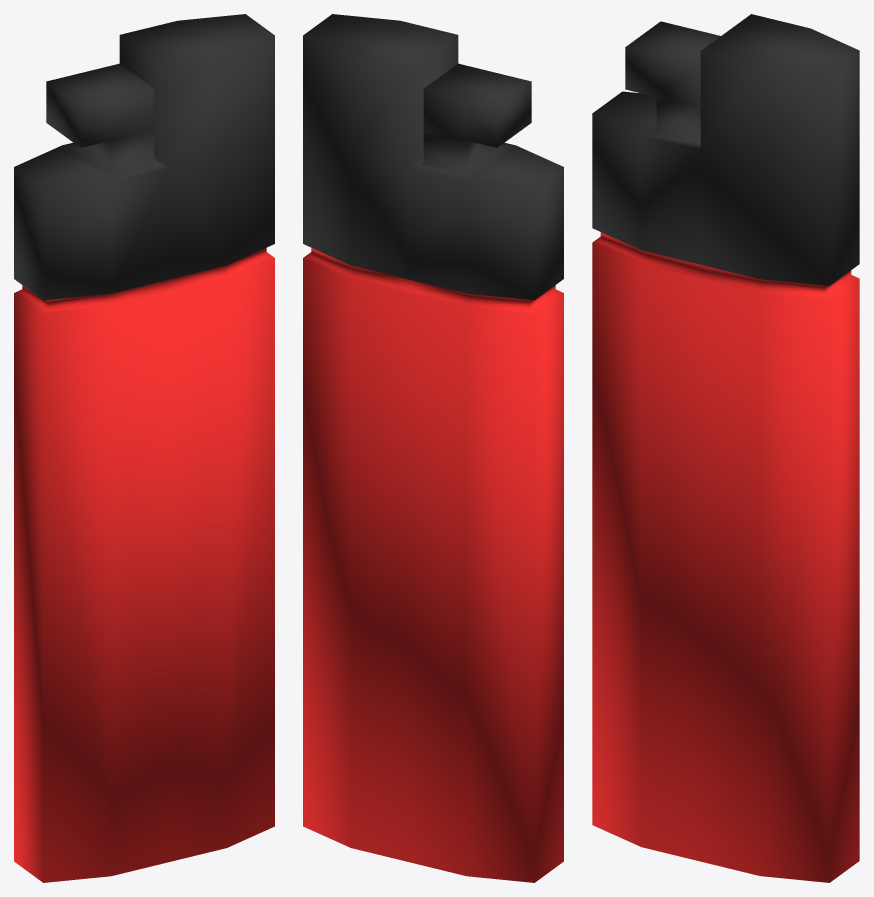
Rendered from korek.fbx.
3 views of the same model, side by side, from view 1: azimuth 30°, elevation 25°; view 2: azimuth 150°, elevation 25°; view 3: azimuth 330°, elevation 25° (orthographic). The views are drawn at different scales.
Parts seen in each view (by area): view 1: Cube; view 2: Cube; view 3: Cube.
Boxes of the visible parts, x1,y1,x2,y2 form: Cube: (14, 14, 274, 882); Cube: (303, 14, 563, 882); Cube: (592, 14, 859, 882).
Size of the model in its own units: 31.97 by 104 by 11.83.
Materials: 1 (1 with a texture image).
